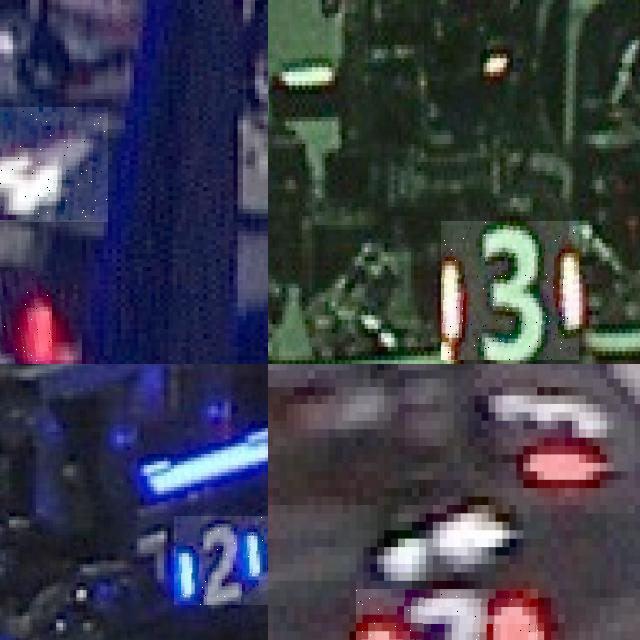B2: (174, 516, 268, 604)
R3: (441, 221, 579, 360), (356, 589, 537, 640)
R4: (0, 106, 108, 222), (0, 271, 51, 364)
